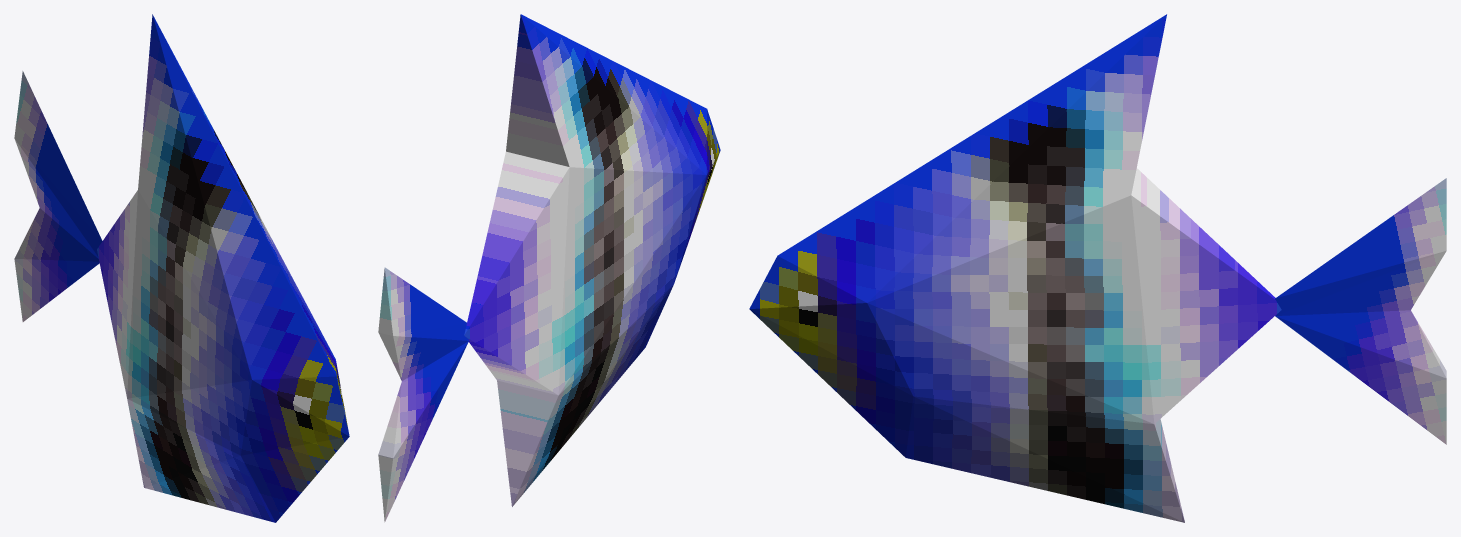
Rendered from Fish.dae.
3 renders of one model, left to right at view 1: azimuth 30°, elevation 25°; view 2: azimuth 150°, elevation 25°; view 3: azimuth 270°, elevation 25°, orthographic. The views are drawn at different scales.
Parts seen in each view (by area): view 1: Node2_part, Node3_part; view 2: Node2_part, Node3_part; view 3: Node2_part, Node3_part.
Part boxes in pixels (x1,y1,x2,y2): Node2_part: (97,14,349,522); Node3_part: (14,71,102,321); Node2_part: (464,14,720,506); Node3_part: (378,267,468,522); Node2_part: (749,14,1281,522); Node3_part: (1275,178,1446,444).
Bounding box in the file's own units: 10 × 54.75 × 68.
1 material, 1 textured.
